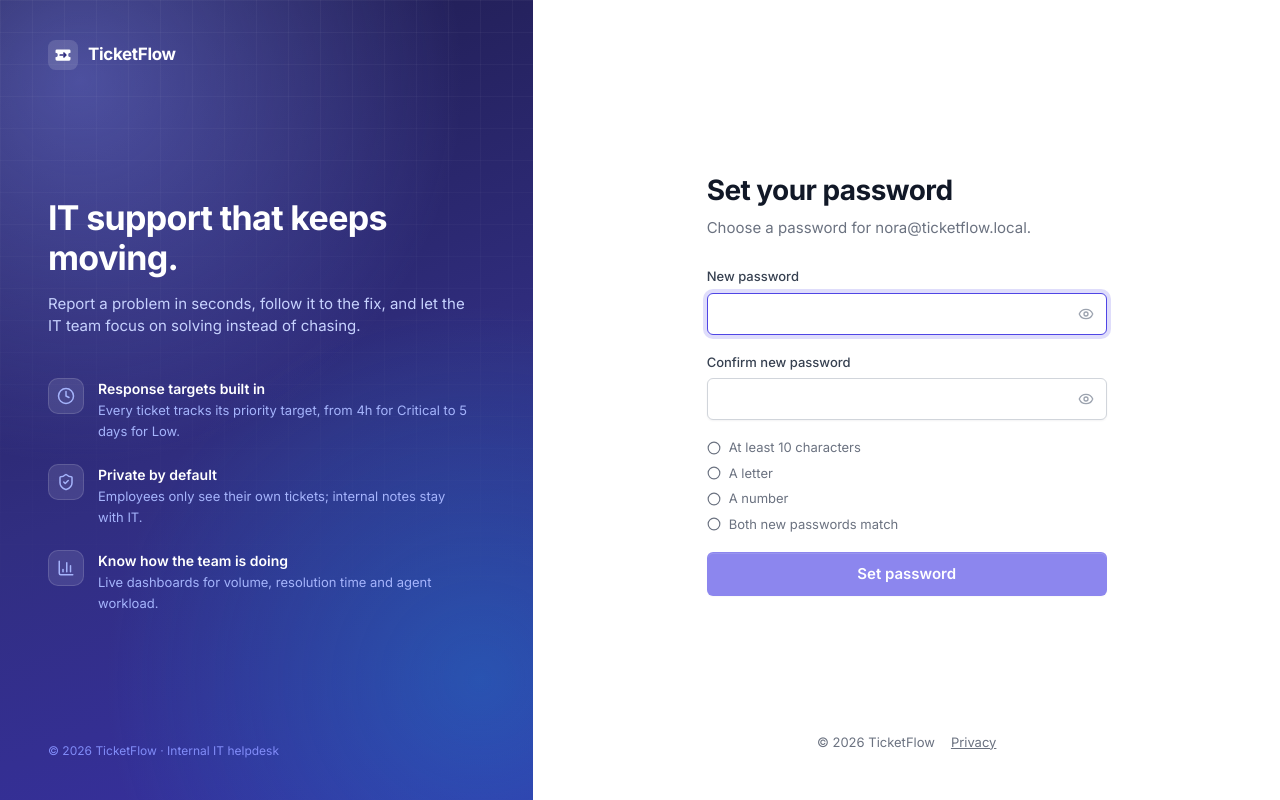
it: Set your password (one-time link) › sets the password and opens sign-in with "Password set, please log in." and the email filled in
The image size is (1280, 800).
Expected: the button "Set password" is shown, x1=707 y1=552 x2=1107 y2=596
Type "my-own-pass42" into the password field labelled "New password".
click(907, 314); type("my-own-pass42")  # box x1=707 y1=292 x2=1107 y2=334
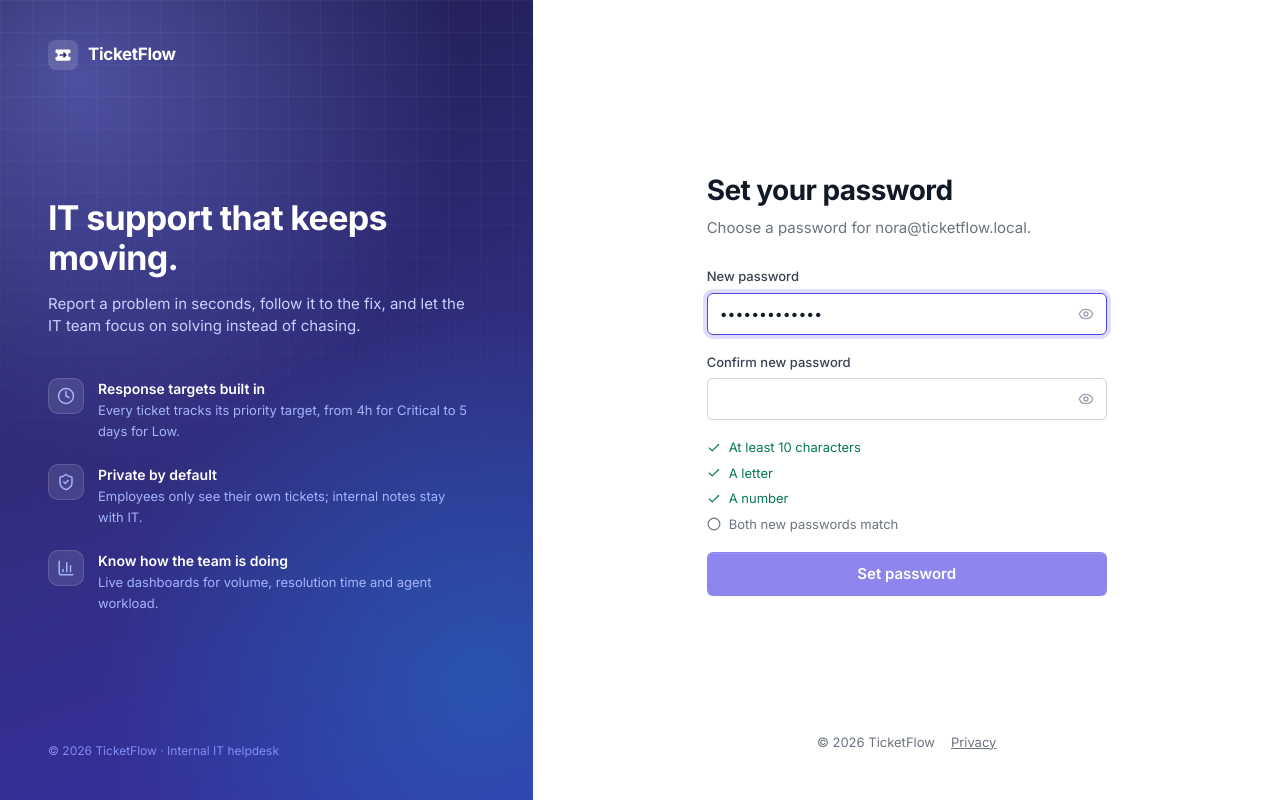
Type "my-own-pass42" into the password field labelled "Confirm new password".
click(907, 399); type("my-own-pass42")  # box x1=707 y1=378 x2=1107 y2=420
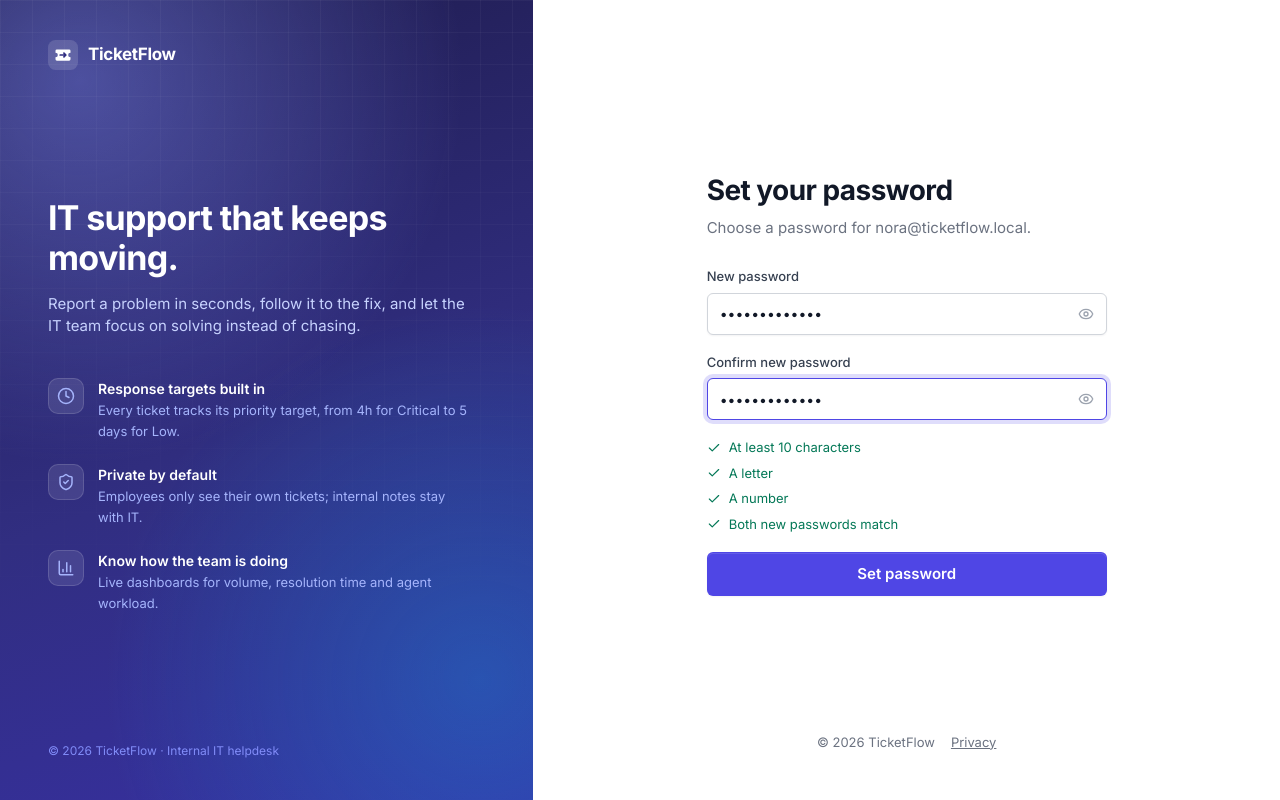
Click the button "Set password".
click(907, 574)  # box x1=707 y1=552 x2=1107 y2=596
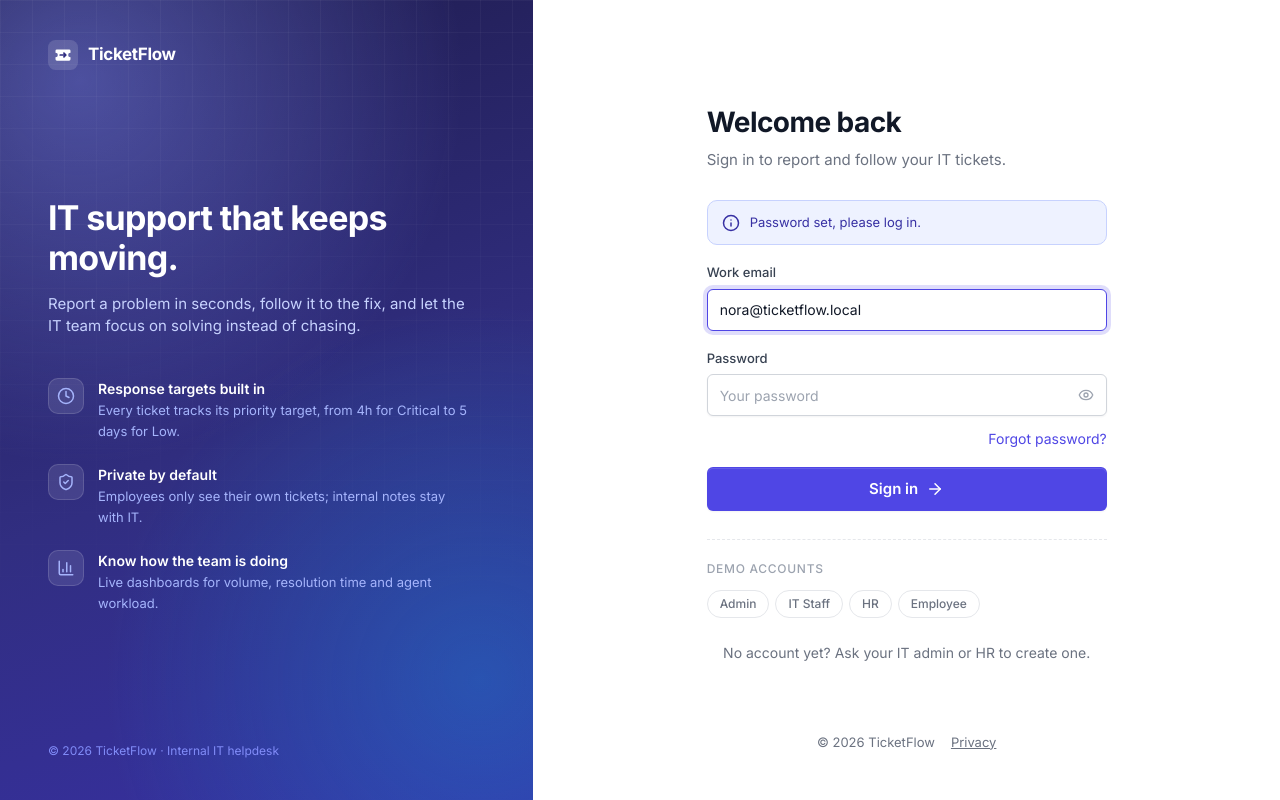
Result: the text "Password set, please log in." is shown at x1=750 y1=213 x2=921 y2=232
Result: the field labelled "Work email" holds "nora@ticketflow.local" at x1=707 y1=289 x2=1107 y2=331
